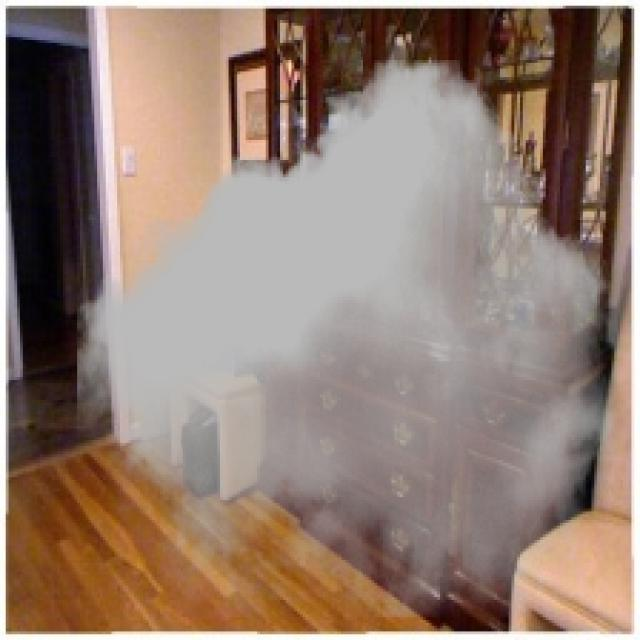smoke: (77, 60, 617, 617)
